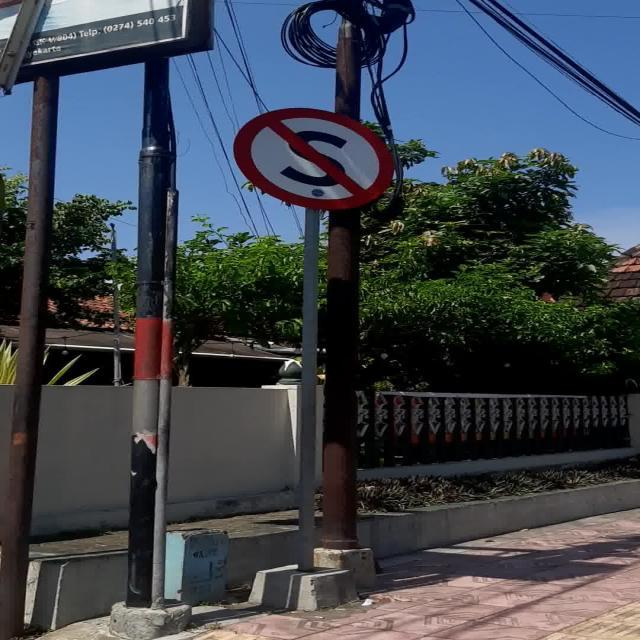Dilarang Berhenti: (234, 108, 394, 210)
